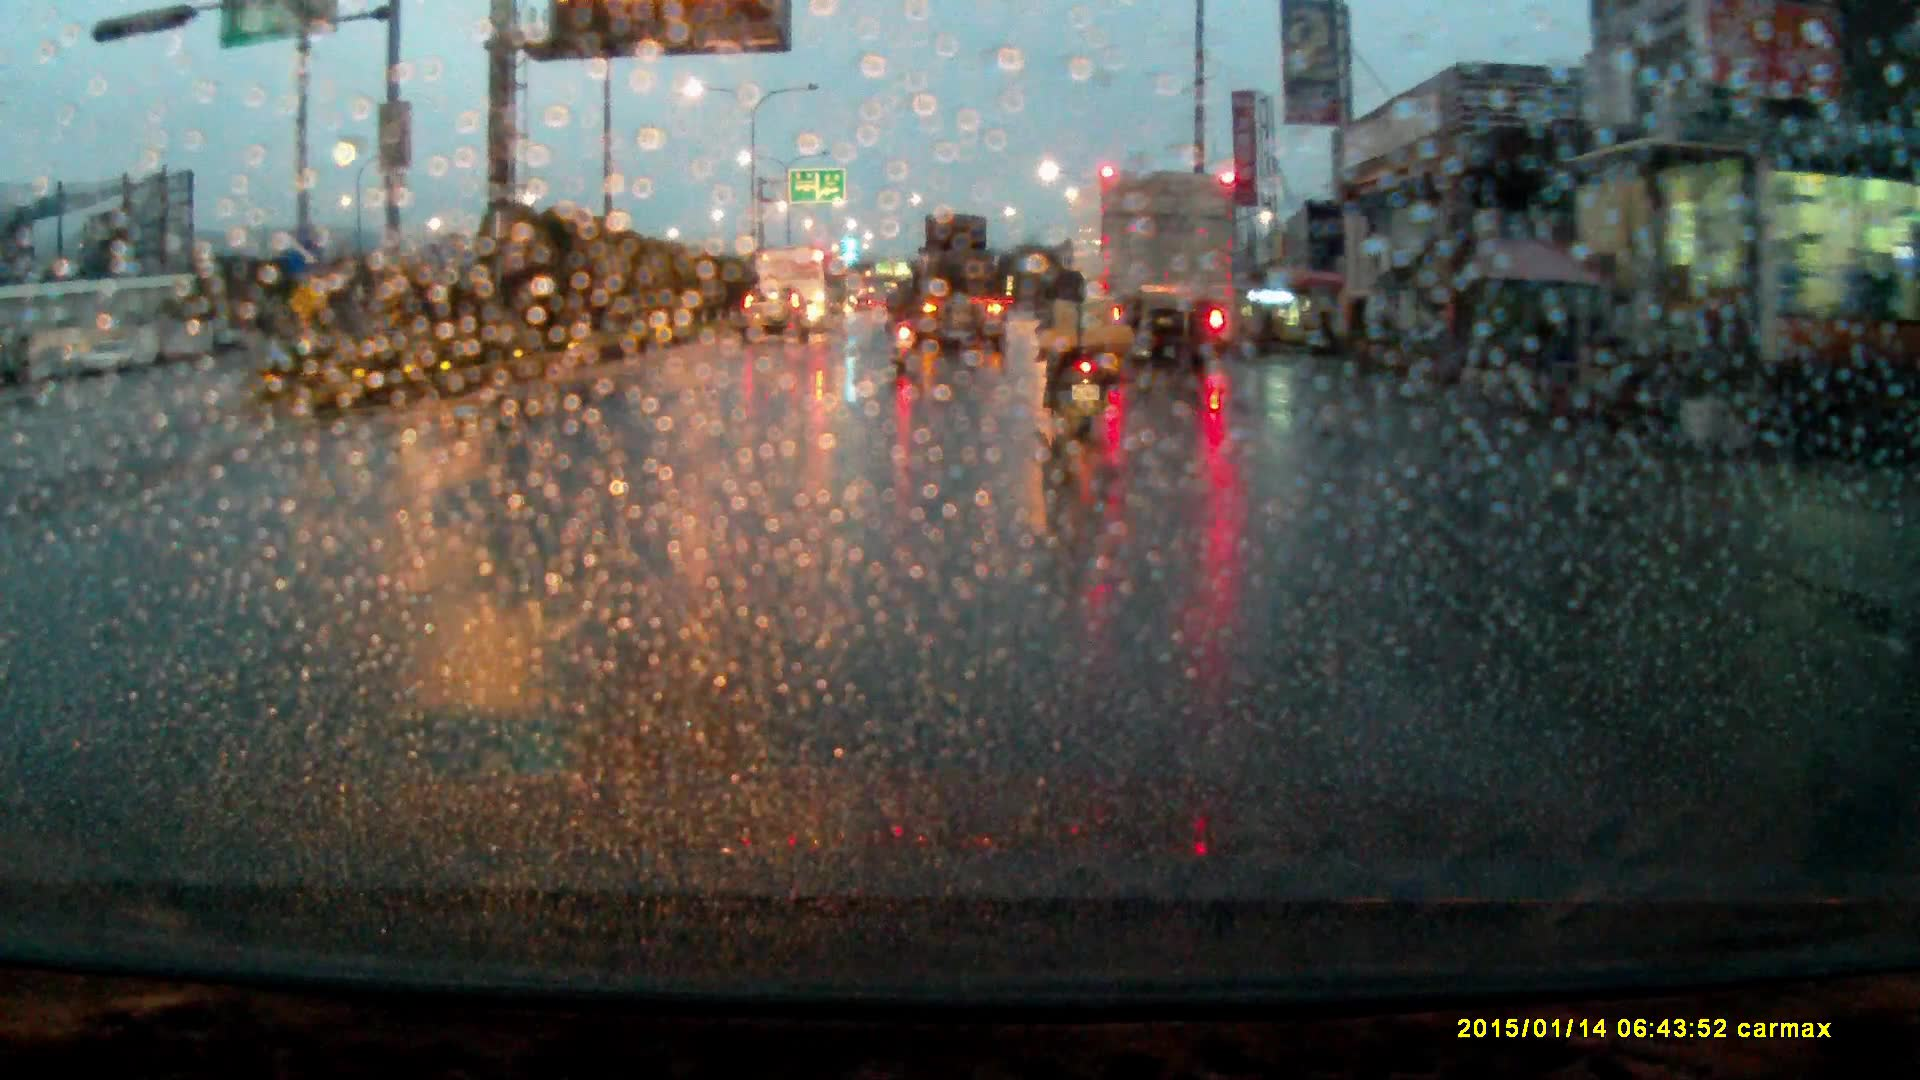rider: (1037, 261, 1121, 439), (890, 268, 927, 366)
vehicle: (1070, 170, 1244, 369), (899, 213, 1001, 361), (770, 244, 844, 327), (742, 285, 814, 351)
